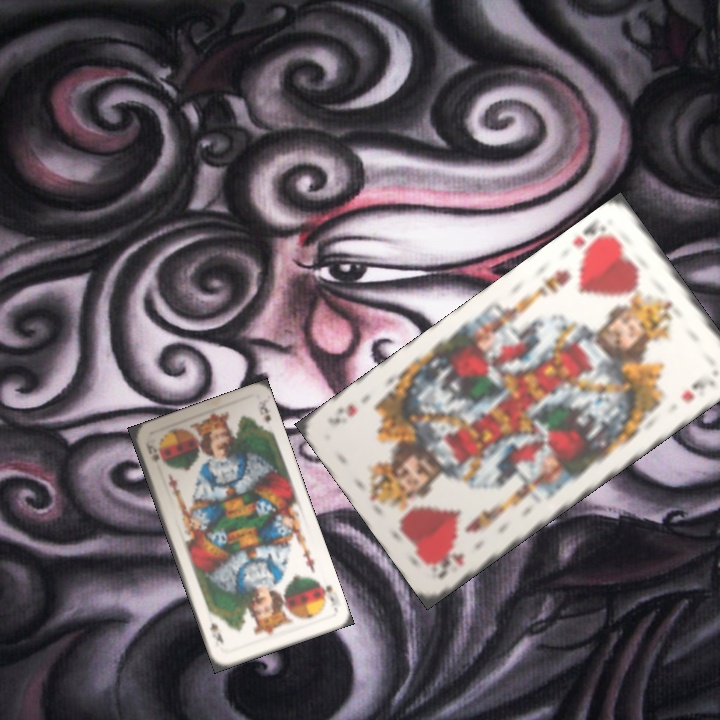HK: (568, 217, 616, 263), (430, 548, 467, 582)
SK: (314, 577, 336, 607), (141, 438, 162, 464)
